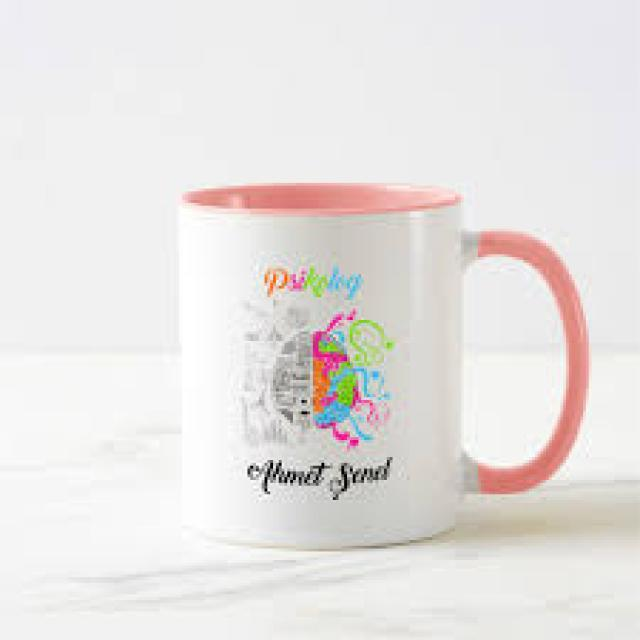taza: (176, 180, 588, 548)
